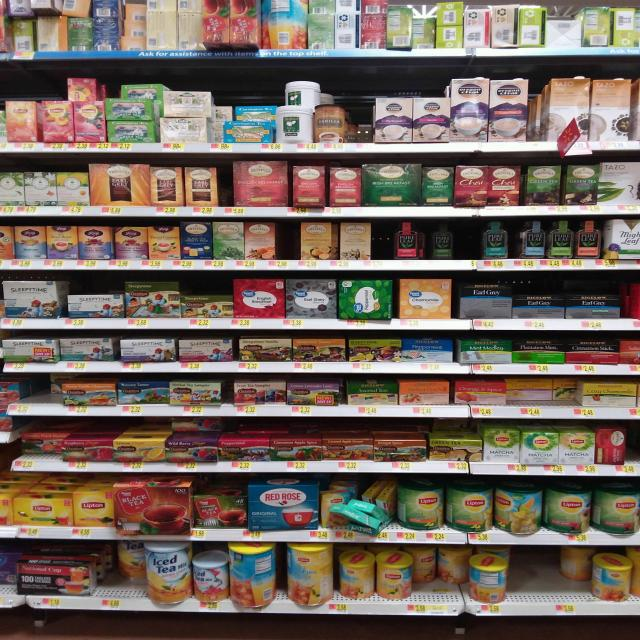empty_space: (515, 547, 558, 597)
